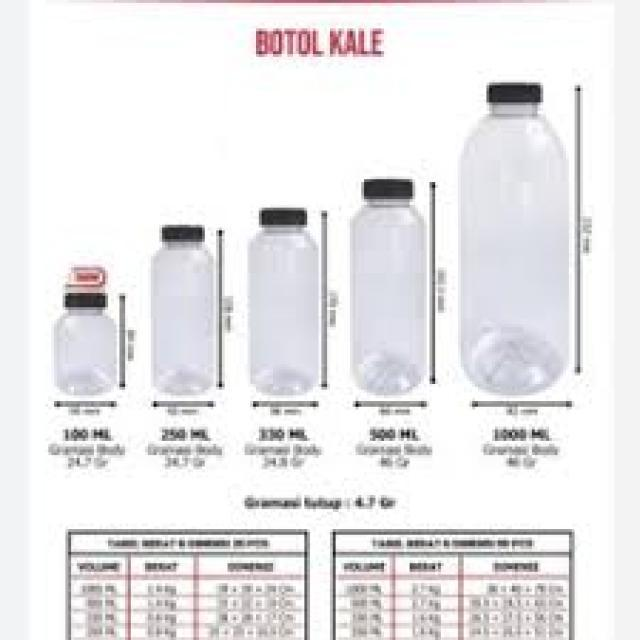bottle: (244, 188, 333, 428)
cap: (483, 78, 547, 115), (253, 202, 312, 230), (360, 175, 415, 203), (60, 288, 112, 312), (158, 226, 212, 246)
